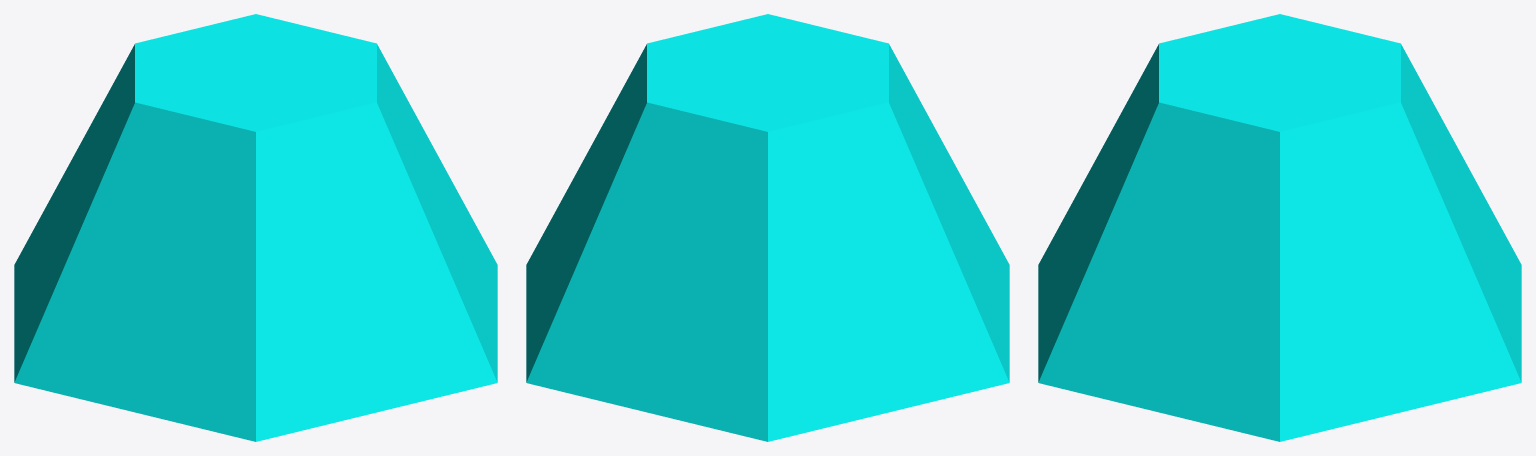
File: figura08.fbx
3 renders of one model, left to right at view 1: azimuth 30°, elevation 25°; view 2: azimuth 150°, elevation 25°; view 3: azimuth 270°, elevation 25°, orthographic.
Parts seen in each view (by area): view 1: Model; view 2: Model; view 3: Model.
Boxes of the visible parts, x1,y1,x2,y2 form: Model: (14, 14, 497, 441); Model: (526, 14, 1009, 441); Model: (1038, 14, 1521, 441).
Bounding box in the file's own units: 12000 × 5955 × 10392.
